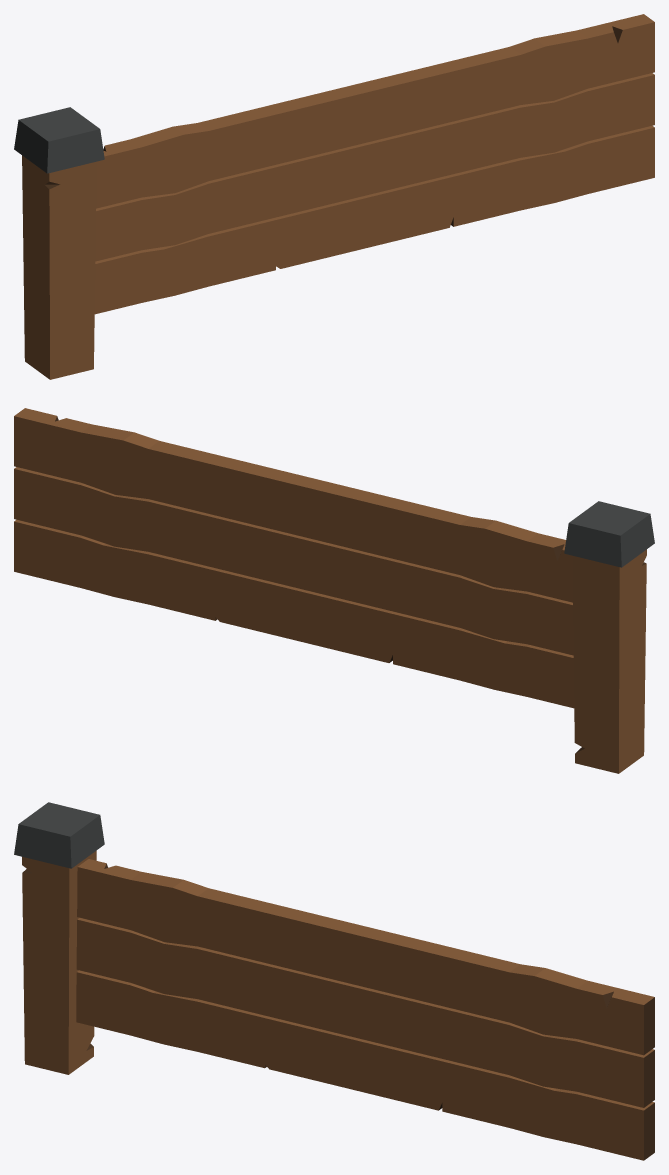
The model's file is Fence_5_Light_Brown.fbx.
The picture shows the model from 3 angles, top to bottom: view 1: azimuth 30°, elevation 25°; view 2: azimuth 150°, elevation 25°; view 3: azimuth 330°, elevation 25°; orthographic projection.
Parts seen in each view (by area): view 1: Fence_5_Light_Brown; view 2: Fence_5_Light_Brown; view 3: Fence_5_Light_Brown.
Boxes of the visible parts, box(x1,y1,x2,y2) form: Fence_5_Light_Brown: box(14, 14, 654, 379); Fence_5_Light_Brown: box(14, 408, 654, 773); Fence_5_Light_Brown: box(14, 802, 654, 1160).
Size of the model in its own units: 258 by 96 by 24.
